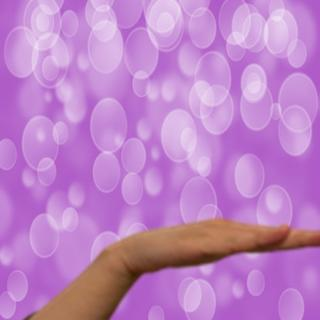WAIT: (114, 211, 320, 277)
